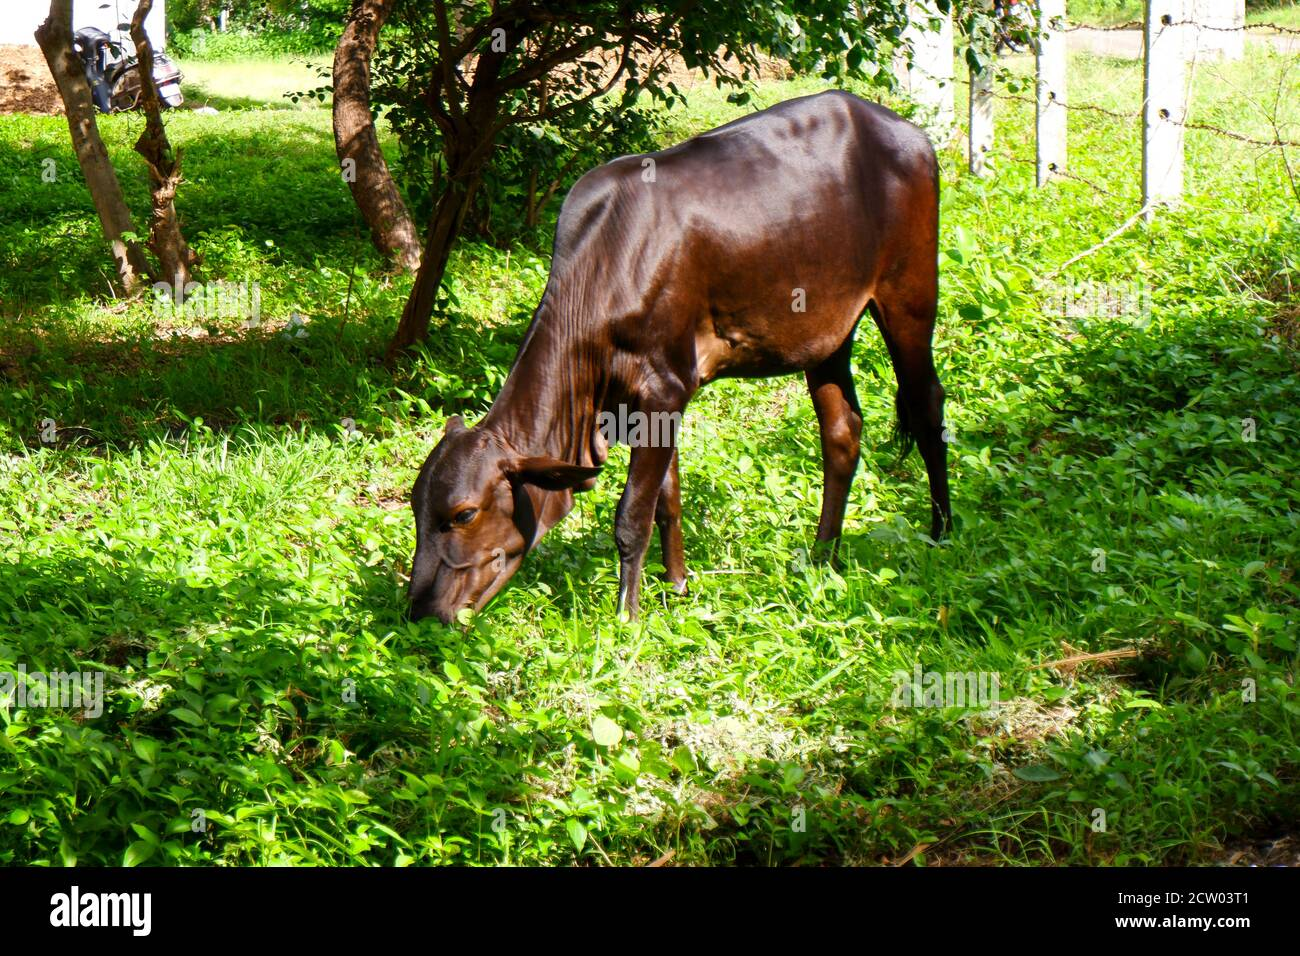cow: (349, 86, 963, 612)
